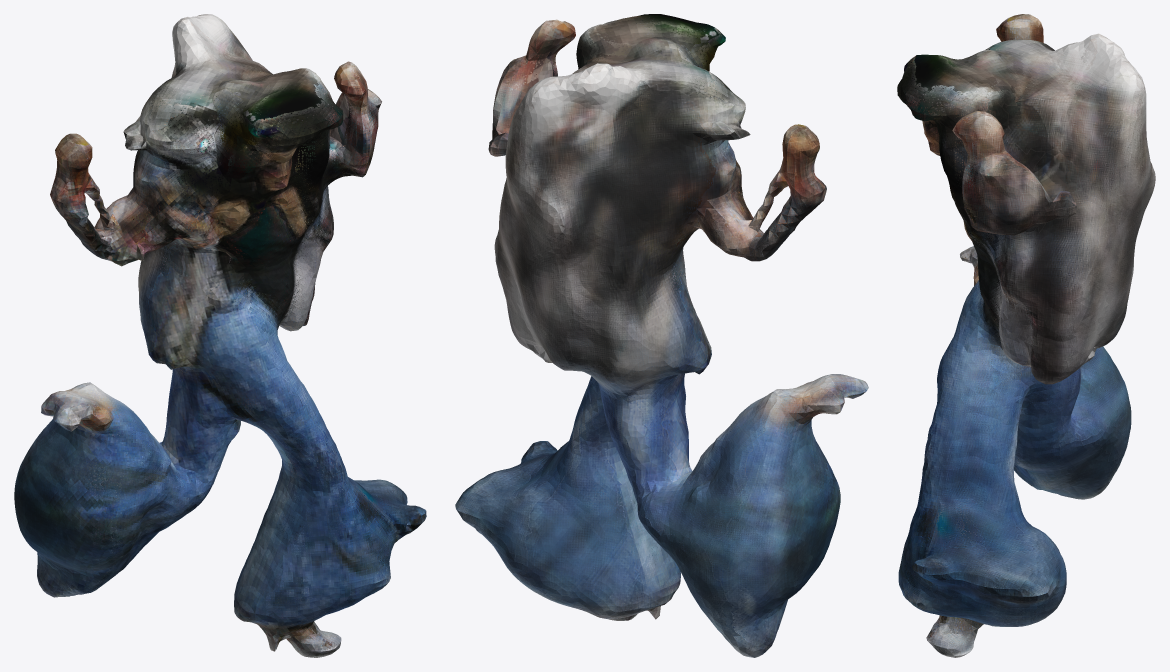
The model's file is shelly.glb.
The picture shows the model from 3 angles, left to right: view 1: azimuth 30°, elevation 25°; view 2: azimuth 150°, elevation 25°; view 3: azimuth 270°, elevation 25°; orthographic projection. The views are drawn at different scales.
Bounding box in the file's own units: 0.8912 × 1.39 × 0.5554.
1 material, 1 textured.
